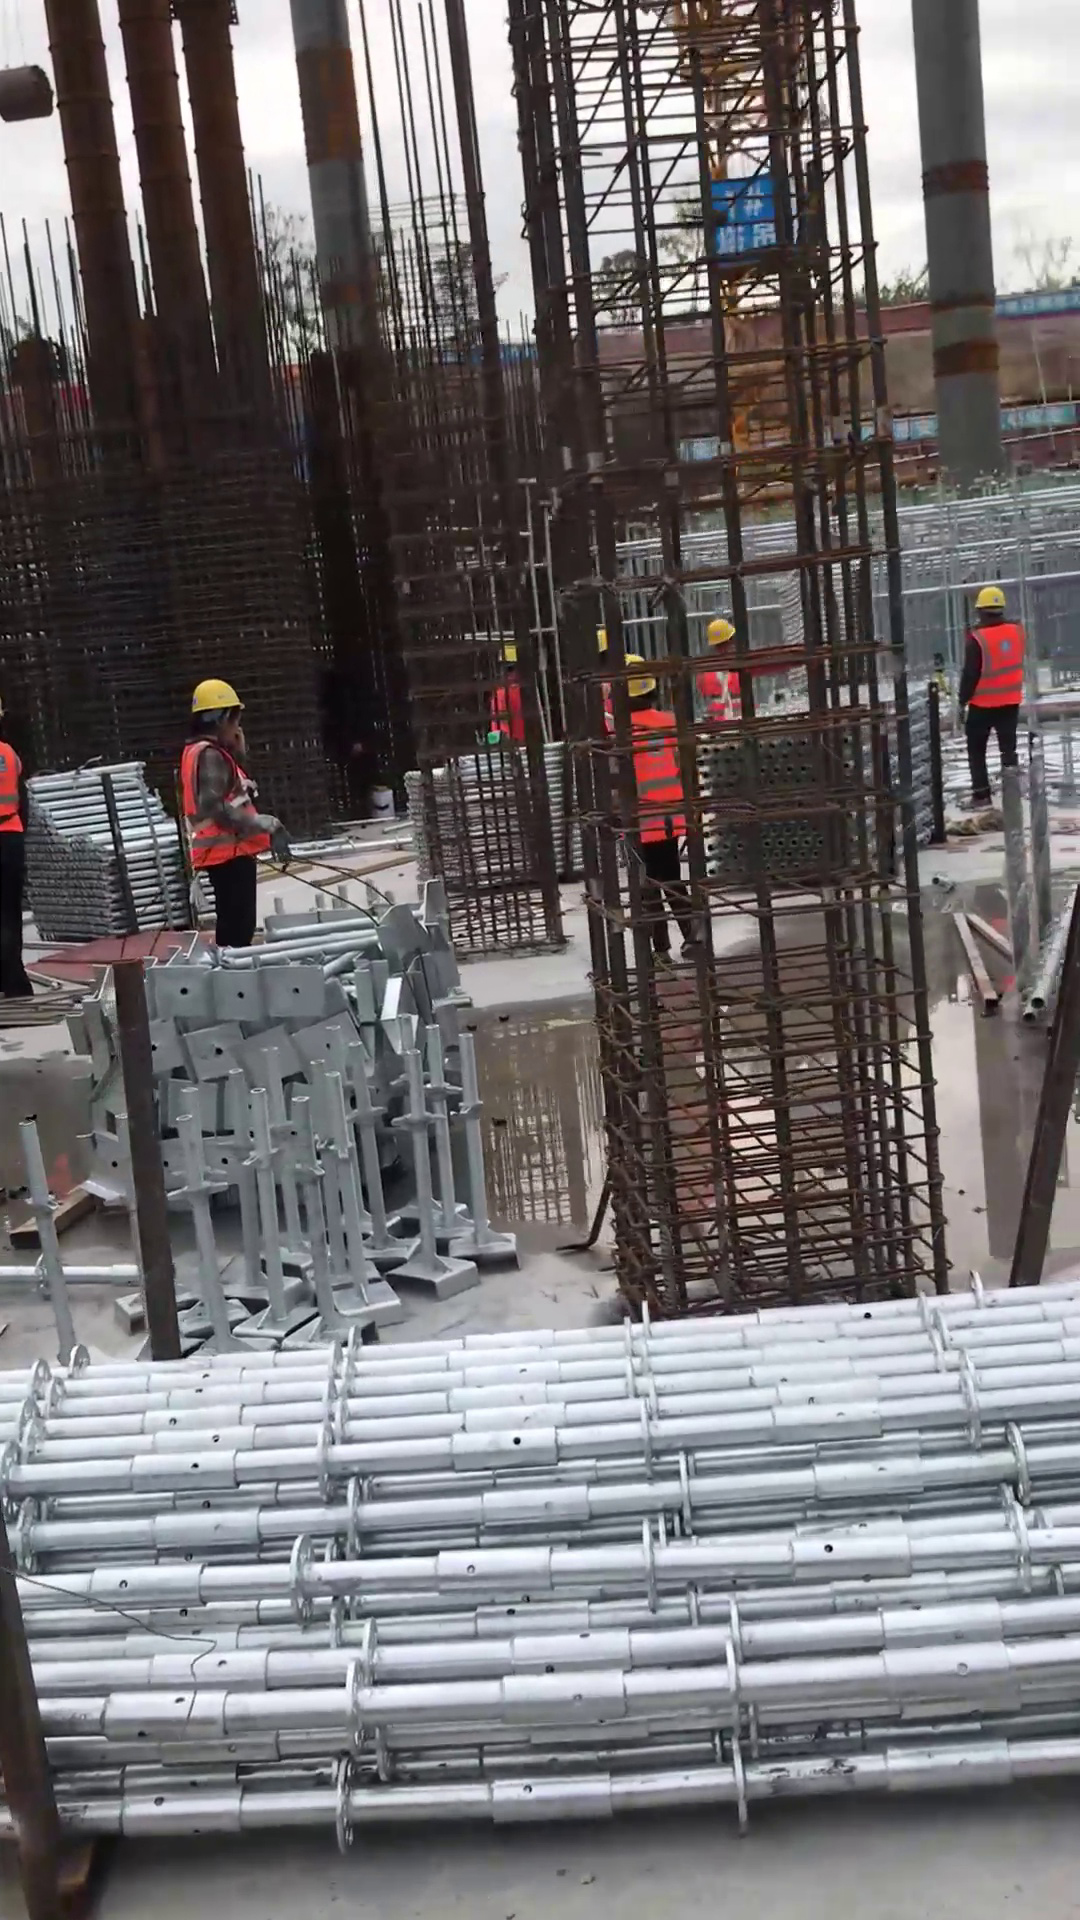helmet: (179, 673, 246, 723), (960, 575, 1013, 617)
person: (165, 658, 304, 971), (938, 575, 1040, 817)
scaffold: (1, 1265, 1059, 1837), (23, 751, 185, 941)
slogan: (1002, 287, 1080, 313)
vest: (179, 735, 269, 871), (960, 612, 1027, 725)
